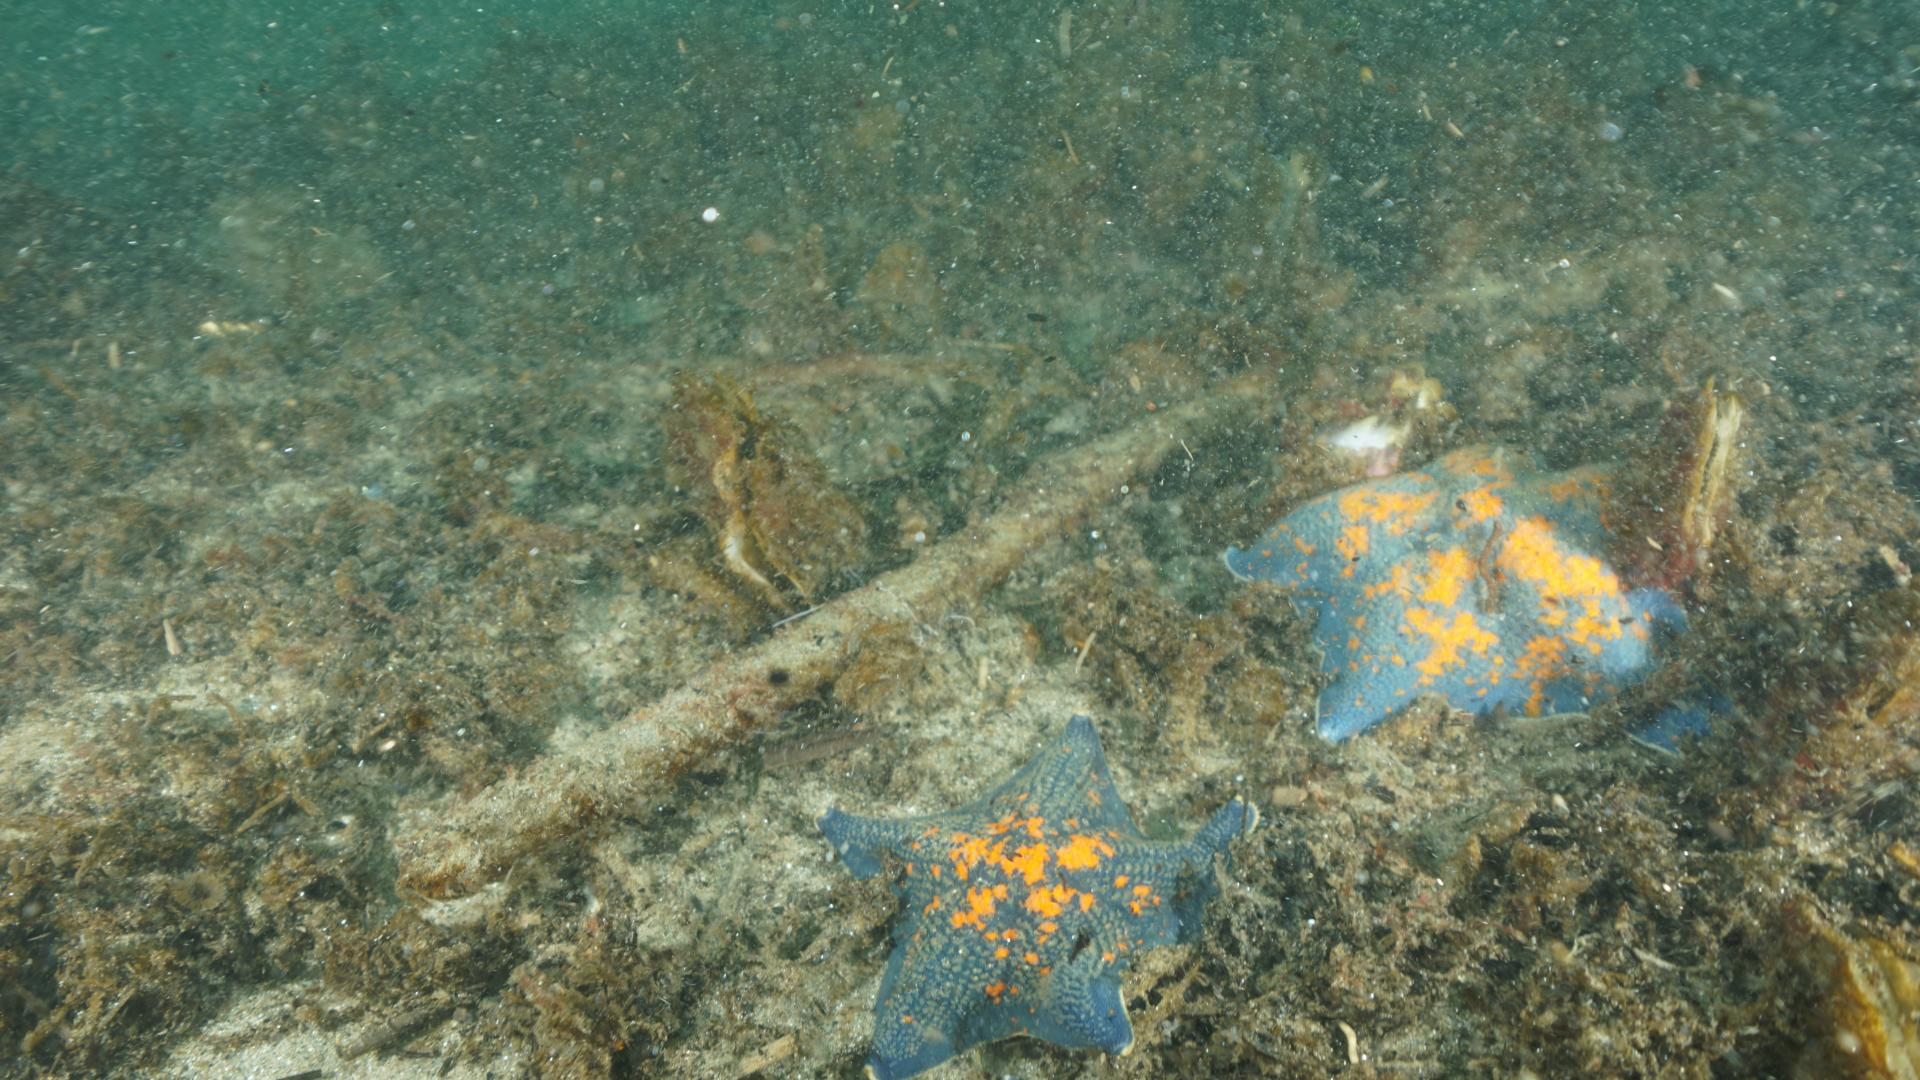rope: (386, 360, 1276, 882)
